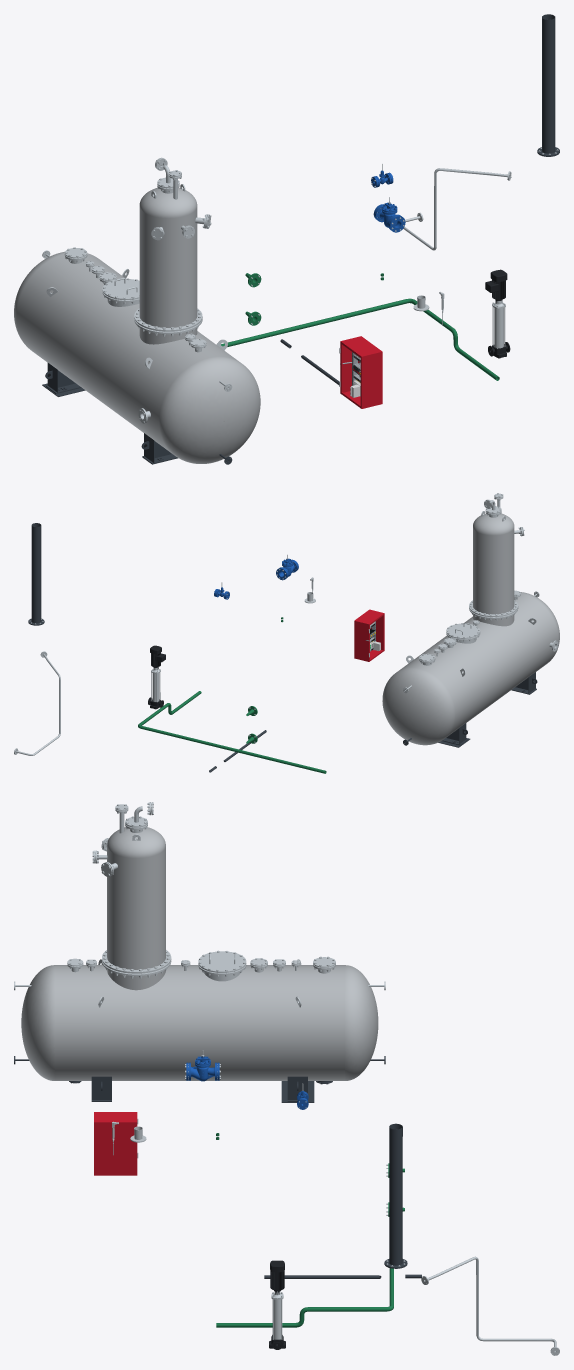
The picture shows the model from 3 angles, top to bottom: view 1: azimuth 30°, elevation 25°; view 2: azimuth 150°, elevation 25°; view 3: azimuth 270°, elevation 25°; orthographic projection. The views are drawn at different scales.
Parts seen in each view (by area): view 1: deaerator CAD solid 56, deaerator CAD solid 257, control_cabinet / control_cabinet_0.npz, bdv_vent / dark, suction_common / green, trap_gap_to_bdv / steel, deaerator CAD solid 408; view 2: deaerator CAD solid 56, deaerator CAD solid 257, control_cabinet / control_cabinet_0.npz, bdv_vent / dark, suction_common / green, deaerator CAD solid 408, trap_gap_to_bdv / steel; view 3: deaerator CAD solid 56, deaerator CAD solid 257, control_cabinet / control_cabinet_0.npz, bdv_vent / dark, suction_common / green, trap_gap_to_bdv / steel, deaerator CAD solid 408.
Boxes of the visible parts, bbox=[...] form: deaerator CAD solid 56: bbox=[14, 251, 260, 463]; deaerator CAD solid 257: bbox=[139, 187, 197, 327]; control_cabinet / control_cabinet_0.npz: bbox=[339, 336, 382, 408]; bdv_vent / dark: bbox=[537, 14, 559, 156]; suction_common / green: bbox=[221, 298, 499, 380]; trap_gap_to_bdv / steel: bbox=[403, 168, 511, 250]; deaerator CAD solid 408: bbox=[102, 279, 139, 300]; deaerator CAD solid 56: bbox=[382, 592, 559, 745]; deaerator CAD solid 257: bbox=[473, 513, 514, 614]; control_cabinet / control_cabinet_0.npz: bbox=[354, 609, 384, 661]; bdv_vent / dark: bbox=[28, 523, 44, 625]; suction_common / green: bbox=[138, 691, 326, 773]; deaerator CAD solid 408: bbox=[446, 623, 480, 638]; trap_gap_to_bdv / steel: bbox=[14, 651, 60, 755]; deaerator CAD solid 56: bbox=[21, 965, 378, 1080]; deaerator CAD solid 257: bbox=[107, 827, 165, 969]; control_cabinet / control_cabinet_0.npz: bbox=[94, 1112, 138, 1175]; bdv_vent / dark: bbox=[384, 1123, 407, 1268]; suction_common / green: bbox=[216, 1268, 393, 1327]; trap_gap_to_bdv / steel: bbox=[421, 1256, 559, 1355]; deaerator CAD solid 408: bbox=[198, 951, 246, 972].
Bounding box in the file's own units: 8.25 × 4.73 × 6.68.
